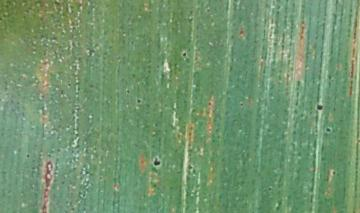tarspot: (153, 156, 160, 166), (316, 104, 323, 110), (182, 52, 187, 57), (325, 128, 331, 132), (332, 171, 336, 176), (26, 154, 30, 158), (137, 99, 141, 103)
